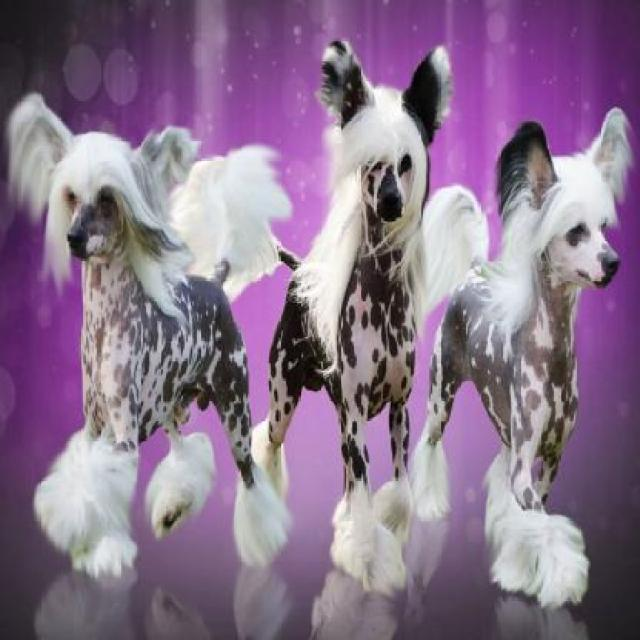animals: (4, 80, 288, 589), (417, 72, 634, 640), (252, 24, 450, 604)
